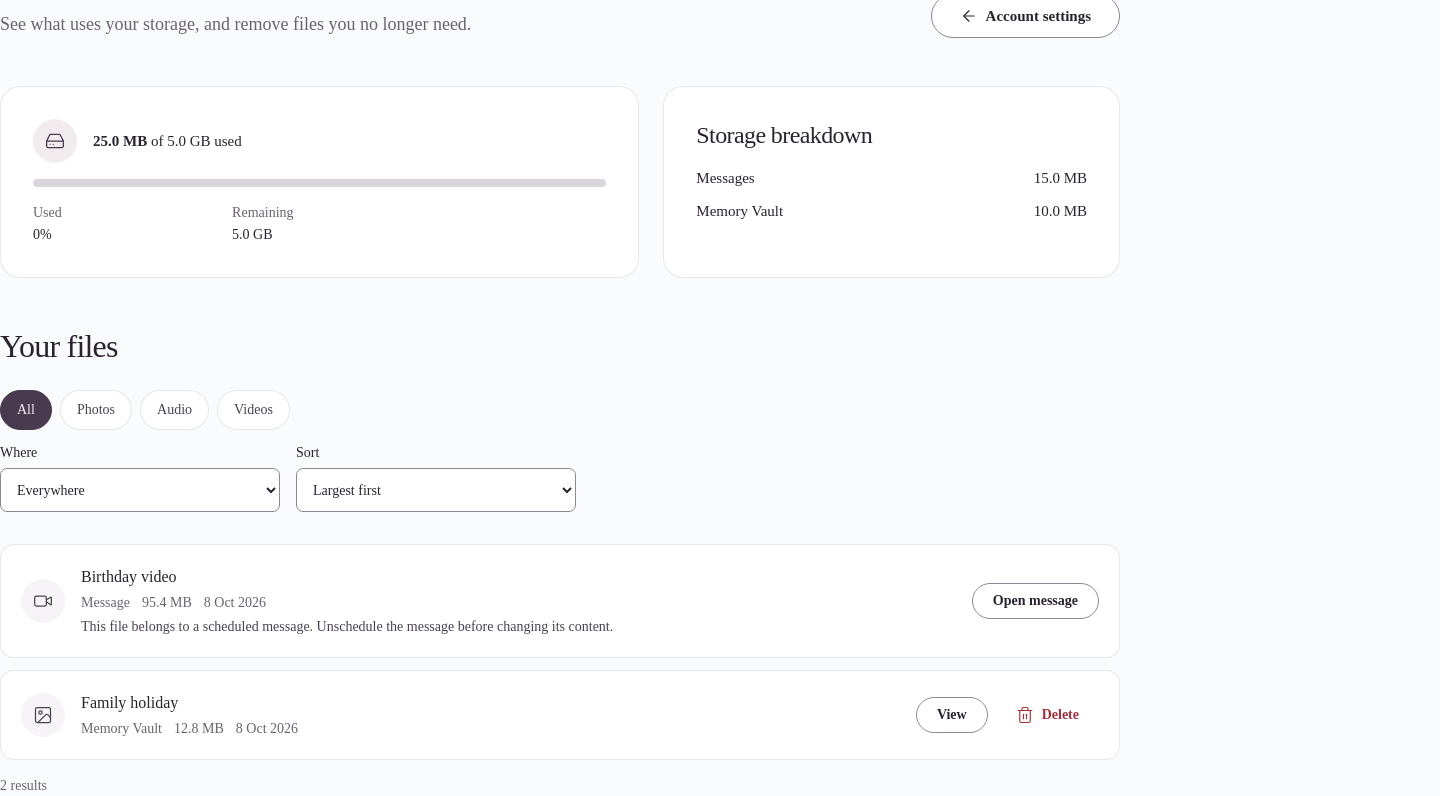
Test: Storage Manager › deleting asks first, uses the file’s own endpoint, then refreshes usage and the list
(page scrolled)
Click the button with aria-label "Delete: Family holiday" at [1047, 715], box [996,697,1099,733]
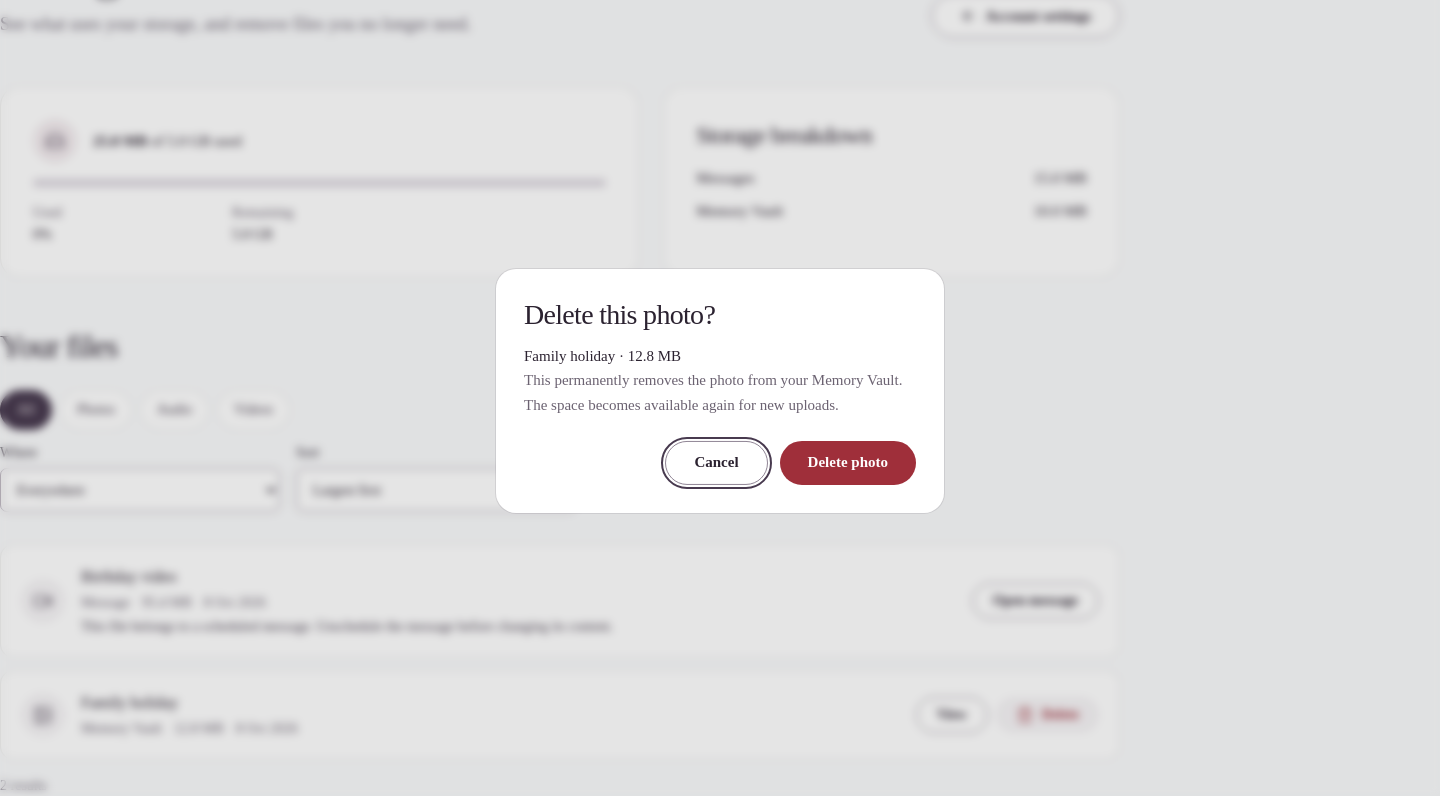
Expected: the dialog "Delete this photo?" shows "Family holiday · 12.8 MB", [496,269,944,513]
Expected: the dialog "Delete this photo?" shows "permanently removes the photo from your Memory Vault", [524,372,902,388]
Click the button "Delete photo" at [848, 463], box [780,441,916,485]
(page scrolled)
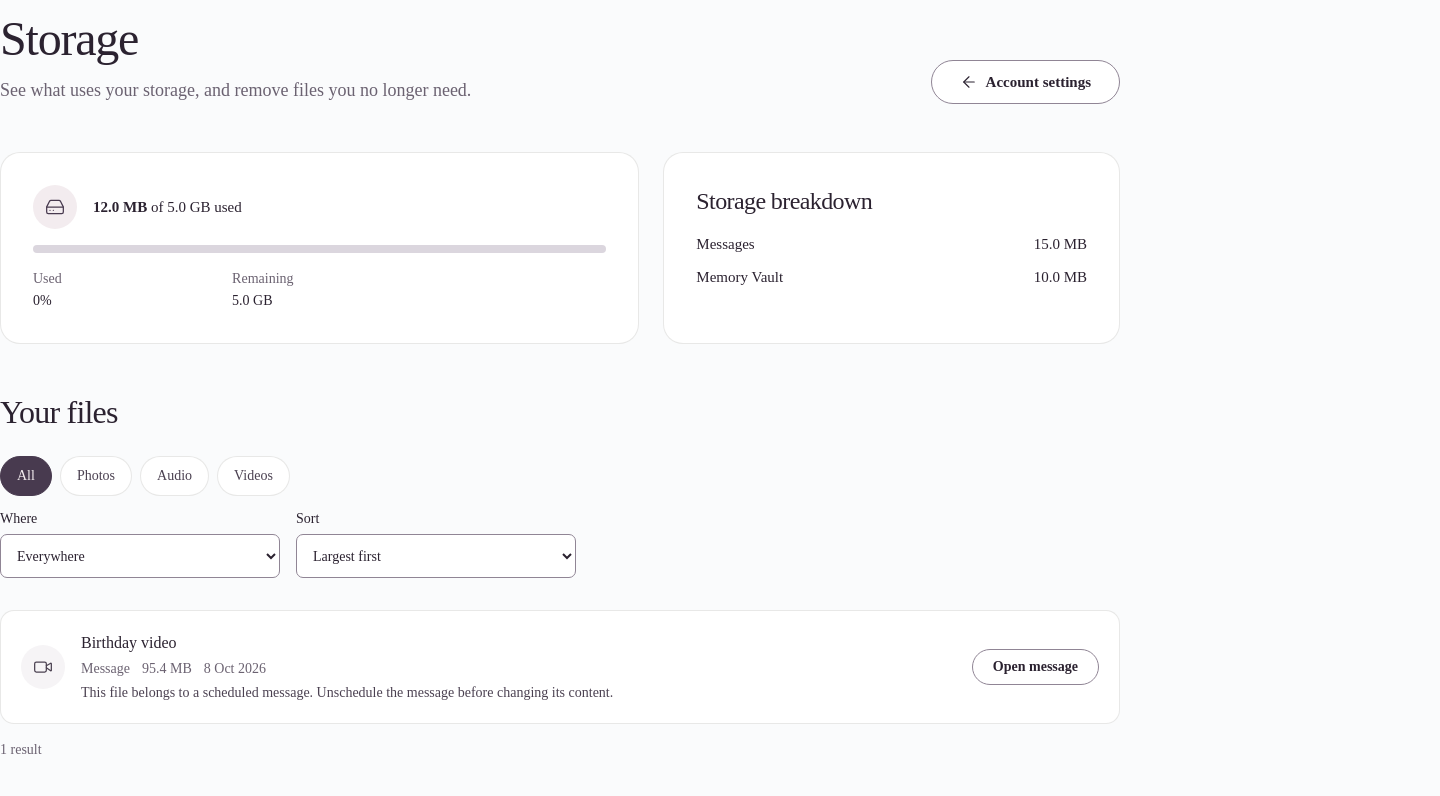
Expected: the text "Family holiday" is gone
Expected: the text "12.0 MB of 5.0 GB used" is shown, [93,196,242,219]
